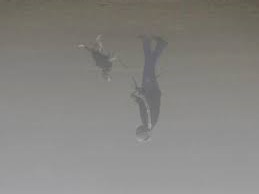person: (131, 35, 170, 144)
